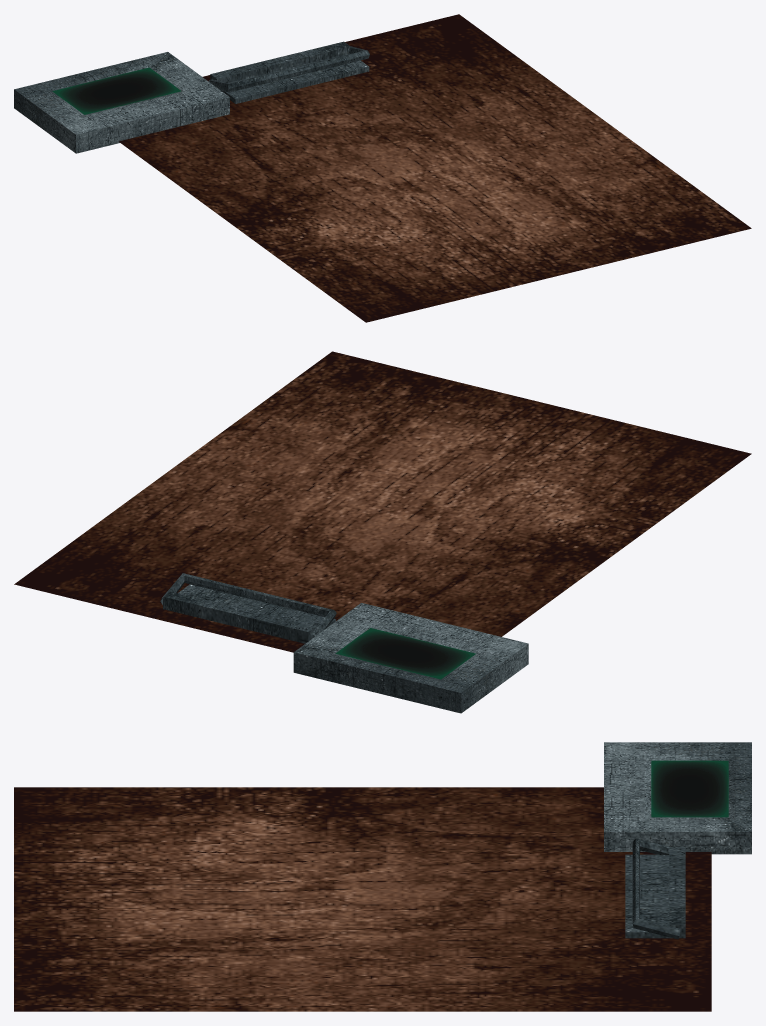
The model's file is Clipboard.fbx.
The picture shows the model from 3 angles, top to bottom: view 1: azimuth 30°, elevation 25°; view 2: azimuth 150°, elevation 25°; view 3: azimuth 270°, elevation 25°; orthographic projection. The views are drawn at different scales.
Parts seen in each view (by area): view 1: Plane.001, Cube.002; view 2: Plane.001, Cube.002; view 3: Plane.001, Cube.002.
Boxes of the visible parts, bbox=[...] form: Plane.001: bbox=[119, 14, 751, 322]; Cube.002: bbox=[14, 52, 229, 153]; Plane.001: bbox=[14, 351, 751, 652]; Cube.002: bbox=[293, 603, 528, 713]; Plane.001: bbox=[14, 787, 711, 1011]; Cube.002: bbox=[604, 742, 751, 854].
Bounding box in the file's own units: 0.4086 × 0.0174 × 0.5118.
